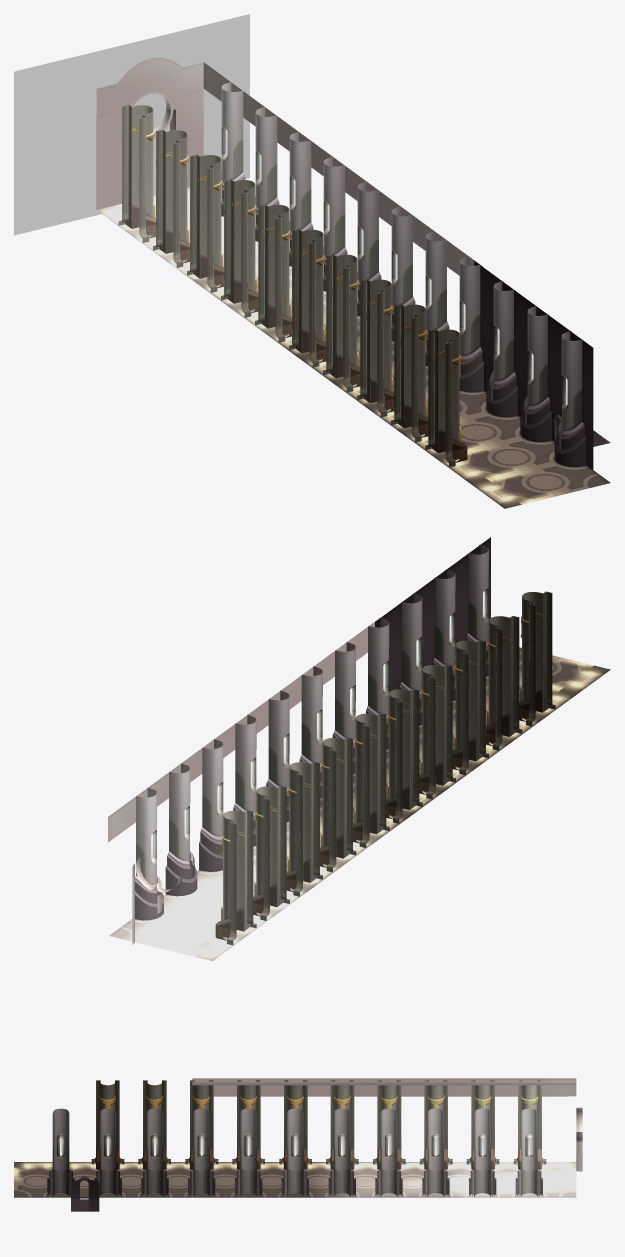
3 renders of one model, top to bottom at view 1: azimuth 30°, elevation 25°; view 2: azimuth 150°, elevation 25°; view 3: azimuth 270°, elevation 25°, orthographic. The views are drawn at different scales.
Parts seen in each view (by area): view 1: Object_2, Object_3, Object_5, Object_22, Object_7, Object_30, Object_27, Object_20, Object_24, Object_23, Object_25, Object_18 (+13 smaller); view 2: Object_22, Object_6, Object_3, Object_27, Object_30, Object_23, Object_7, Object_19, Object_20, Object_25, Object_26, Object_24 (+12 smaller); view 3: Object_3, Object_6, Object_5, Object_7, Object_22, Object_10, Object_8, Object_13, Object_16, Object_15, Object_11, Object_12 (+12 smaller).
Boxes of the visible parts, left/top/right/bottom form: Object_2: left=14, top=14, right=249, bottom=235; Object_3: left=96, top=57, right=482, bottom=275; Object_5: left=300, top=341, right=610, bottom=508; Object_22: left=289, top=229, right=360, bottom=392; Object_7: left=520, top=306, right=586, bottom=467; Object_30: left=474, top=261, right=610, bottom=469; Object_27: left=118, top=104, right=187, bottom=242; Object_20: left=357, top=279, right=394, bottom=417; Object_24: left=221, top=179, right=258, bottom=317; Object_23: left=255, top=204, right=291, bottom=342; Object_25: left=187, top=154, right=223, bottom=292; Object_18: left=425, top=329, right=467, bottom=467; Object_22: left=386, top=664, right=455, bottom=823; Object_6: left=109, top=797, right=410, bottom=960; Object_3: left=108, top=618, right=379, bottom=944; Object_27: left=215, top=810, right=277, bottom=945; Object_30: left=375, top=537, right=490, bottom=692; Object_23: left=353, top=713, right=389, bottom=847; Object_7: left=432, top=544, right=488, bottom=700; Object_19: left=486, top=616, right=522, bottom=750; Object_20: left=452, top=640, right=488, bottom=775; Object_25: left=286, top=761, right=322, bottom=896; Object_26: left=253, top=786, right=289, bottom=920; Object_24: left=320, top=737, right=356, bottom=872; Object_3: left=192, top=1078, right=582, bottom=1171; Object_6: left=295, top=1162, right=576, bottom=1197; Object_5: left=14, top=1162, right=295, bottom=1197; Object_7: left=47, top=1108, right=121, bottom=1197; Object_22: left=232, top=1080, right=311, bottom=1169; Object_10: left=235, top=1108, right=303, bottom=1197; Object_8: left=141, top=1108, right=168, bottom=1196; Object_13: left=375, top=1108, right=402, bottom=1197; Object_16: left=515, top=1108, right=542, bottom=1197; Object_15: left=469, top=1108, right=496, bottom=1196; Object_11: left=281, top=1108, right=308, bottom=1197; Object_12: left=328, top=1108, right=355, bottom=1197.
Size of the model in its own units: 7.73 by 5.28 by 24.61.
29 materials, 28 textured.
